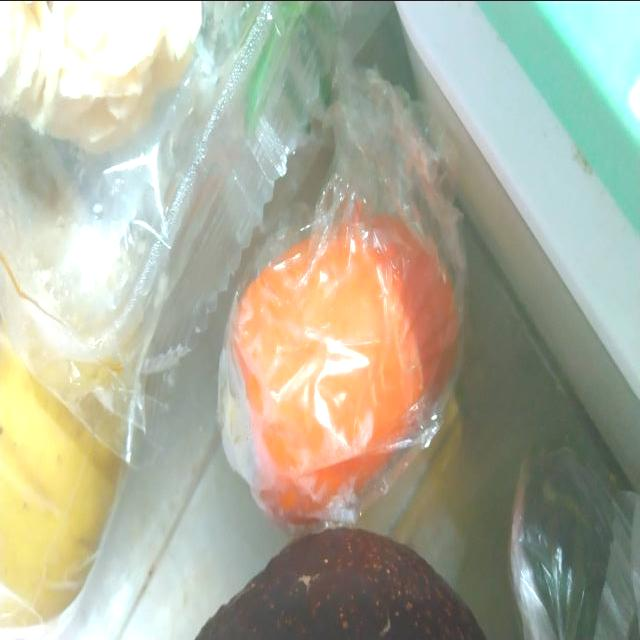carrot: (224, 167, 458, 517)
